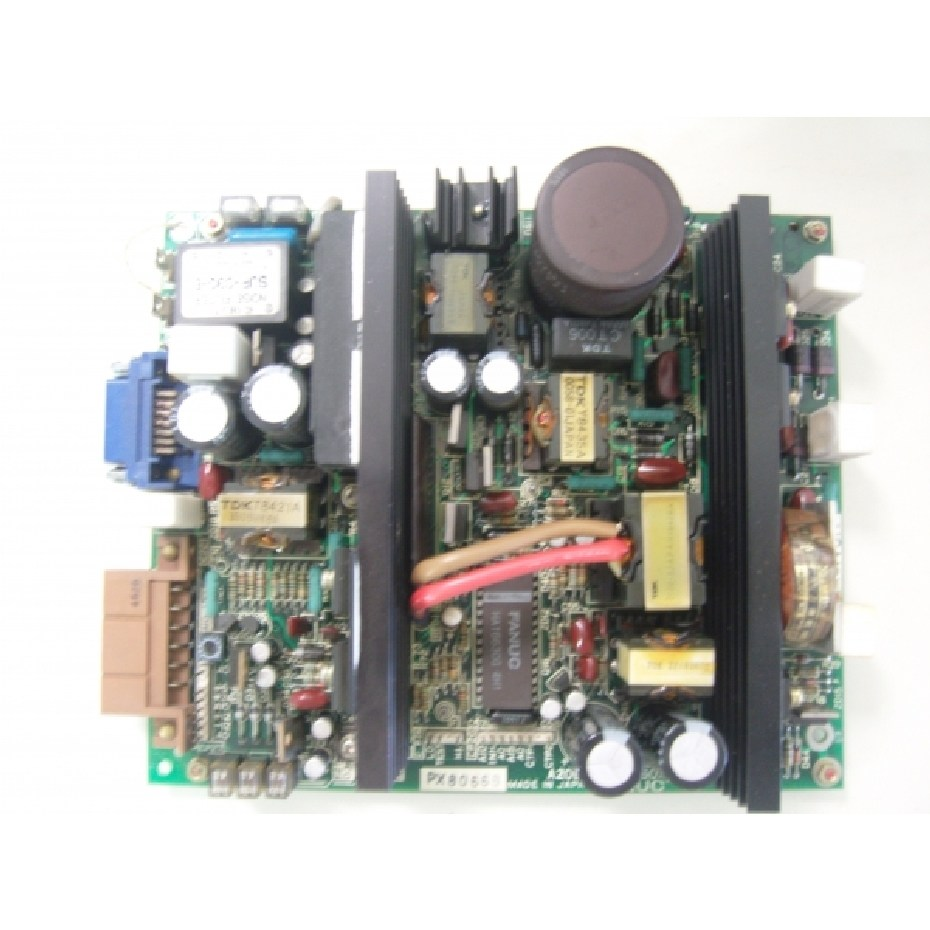capacitor: (640, 693, 736, 803), (557, 691, 645, 800), (236, 347, 310, 453), (166, 379, 246, 472), (468, 338, 531, 414), (414, 337, 473, 407)
